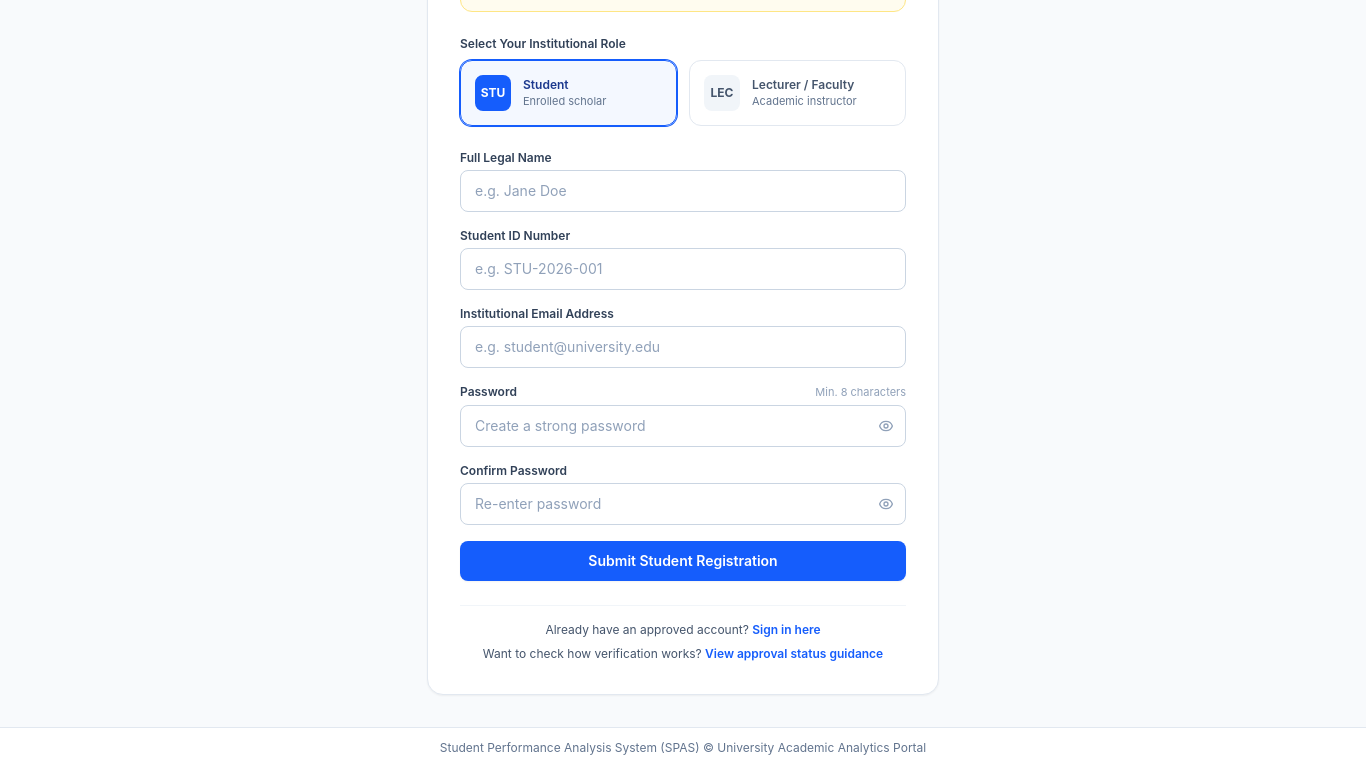
RegisterPage › validates fields on empty submission
(page scrolled)
Step 1. Click the button "Submit Student Registration" → (683, 560), box [460, 540, 906, 580]
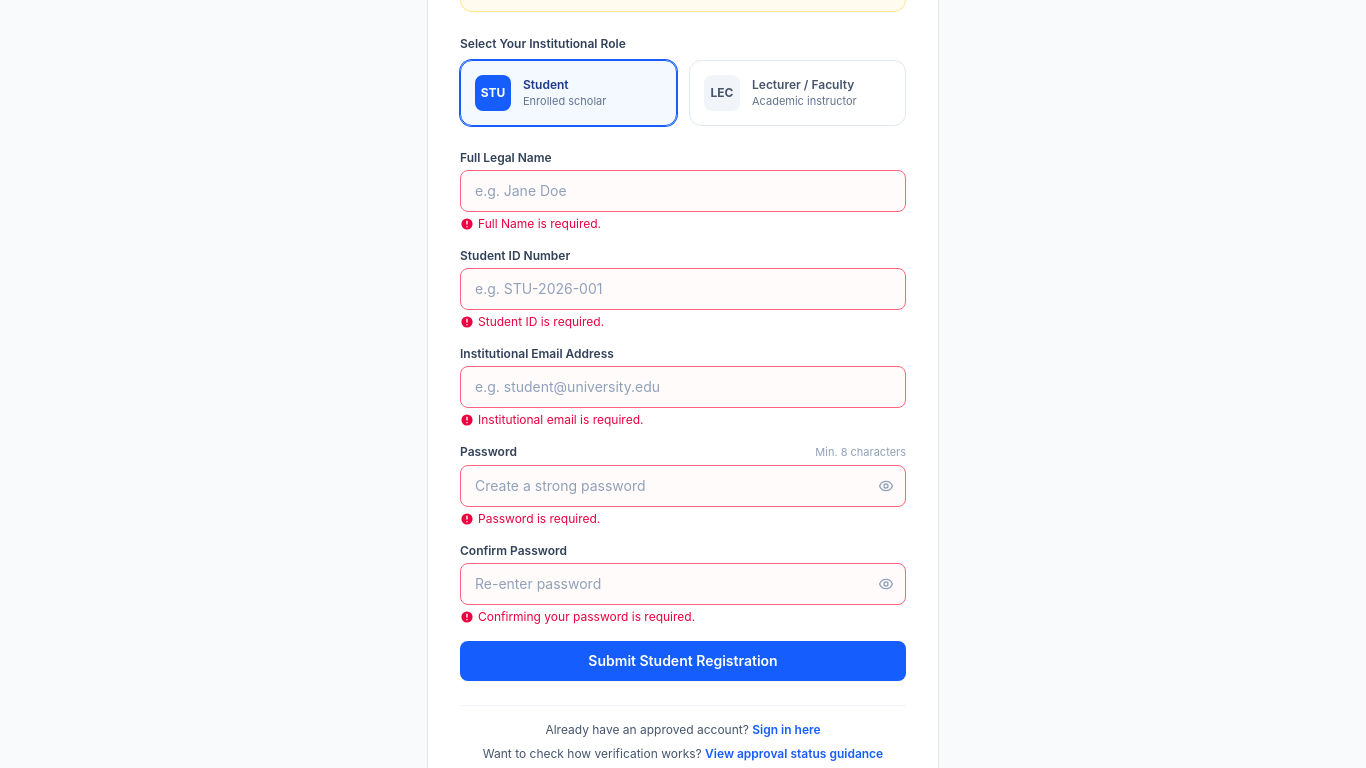
Expected: the text "Full Name is required." is shown, [460, 216, 601, 231]
Expected: the text "Student ID is required." is shown, [460, 314, 604, 329]
Expected: the text "Institutional email is required." is shown, [460, 412, 644, 427]
